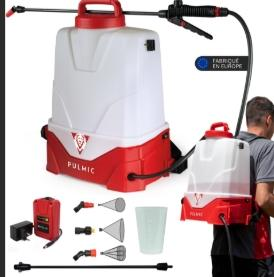PULVERISATEUR: (8, 0, 274, 277)
